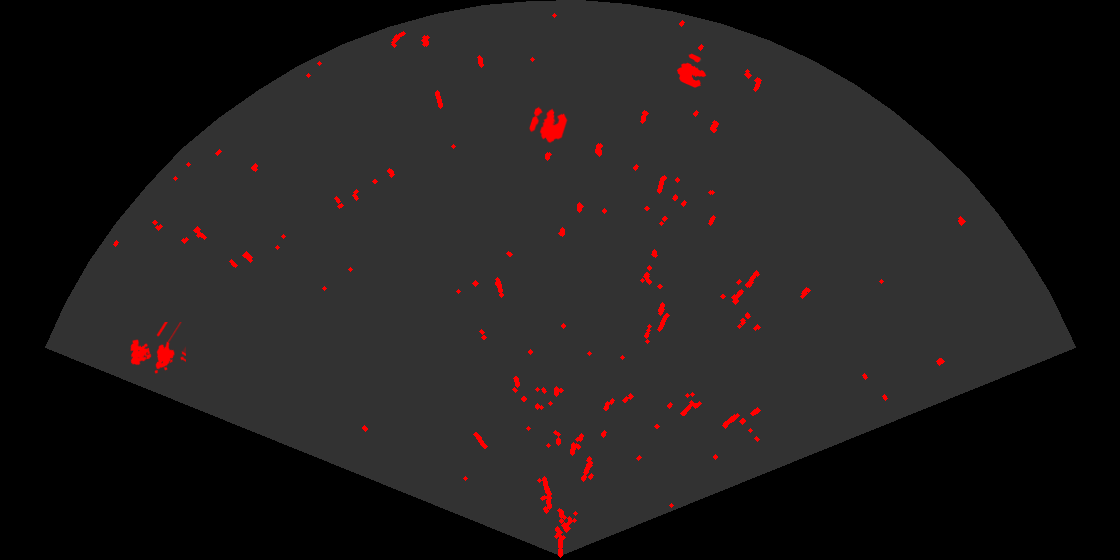ball: (528, 105, 569, 145), (675, 52, 708, 89)
cage: (129, 322, 186, 375)
